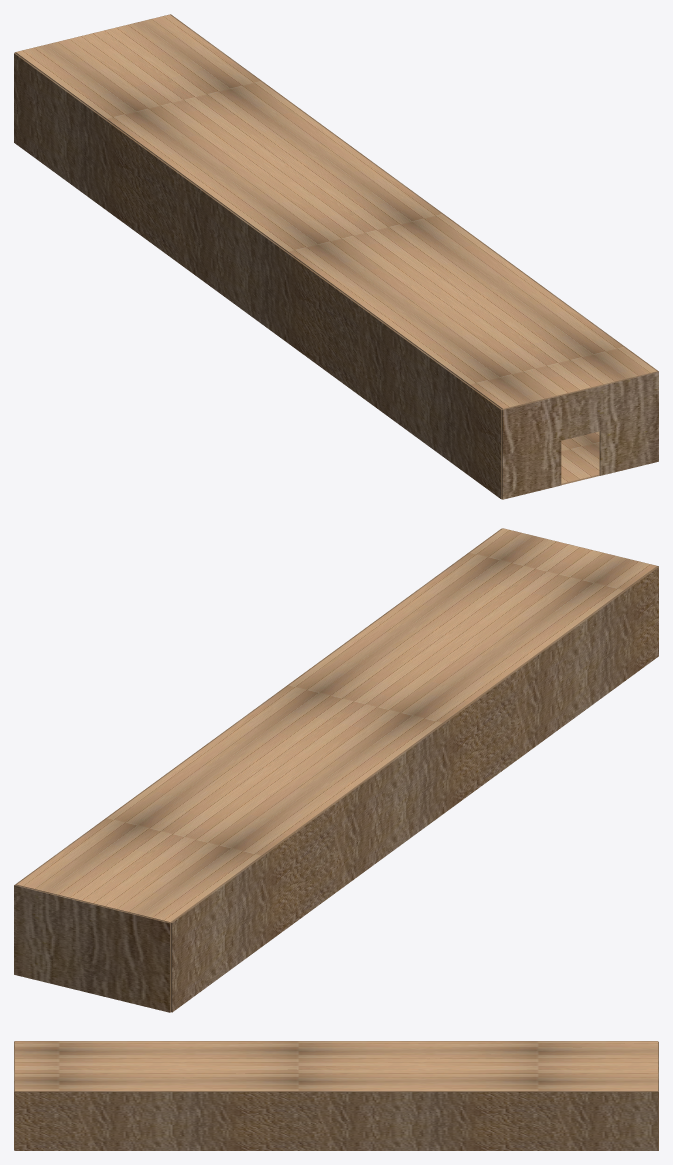
The model's file is LongAssWtf.obj.
3 renders of one model, top to bottom at view 1: azimuth 30°, elevation 25°; view 2: azimuth 150°, elevation 25°; view 3: azimuth 270°, elevation 25°, orthographic. The views are drawn at different scales.
Visible parts, largest first — view 1: Cube.005; view 2: Cube.005; view 3: Cube.005.
Part boxes in pixels (<box>): Cube.005: <box>14,14,658,499</box>; Cube.005: <box>14,528,658,1012</box>; Cube.005: <box>14,1041,658,1150</box>.
Bounding box in the file's own units: 22.2 × 12.2 × 119.
